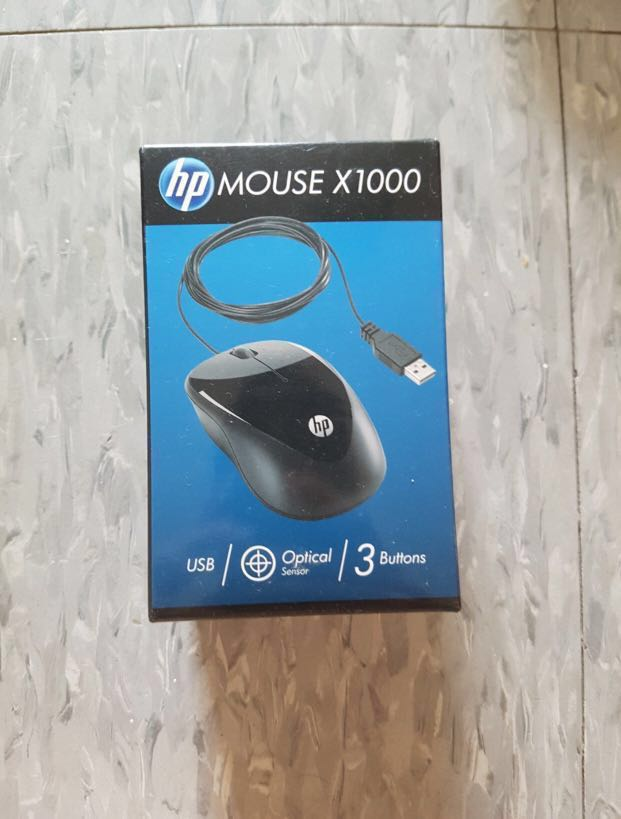hp-mouse-X1000: (152, 214, 448, 525)
